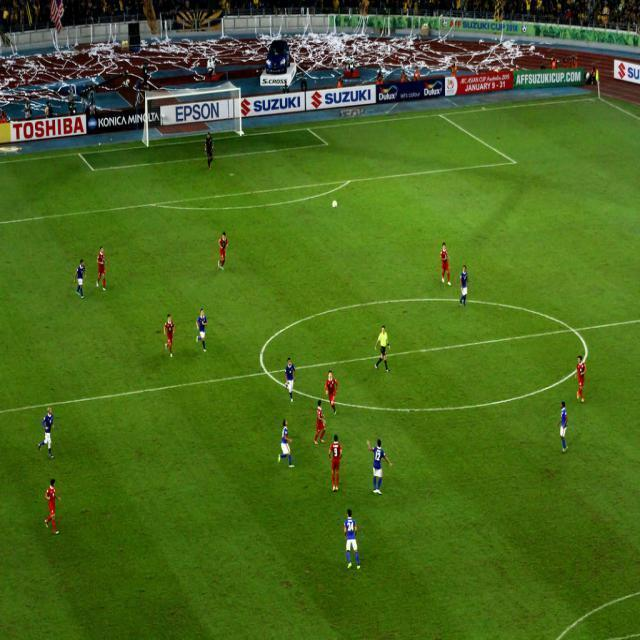ball: (330, 196, 340, 207)
